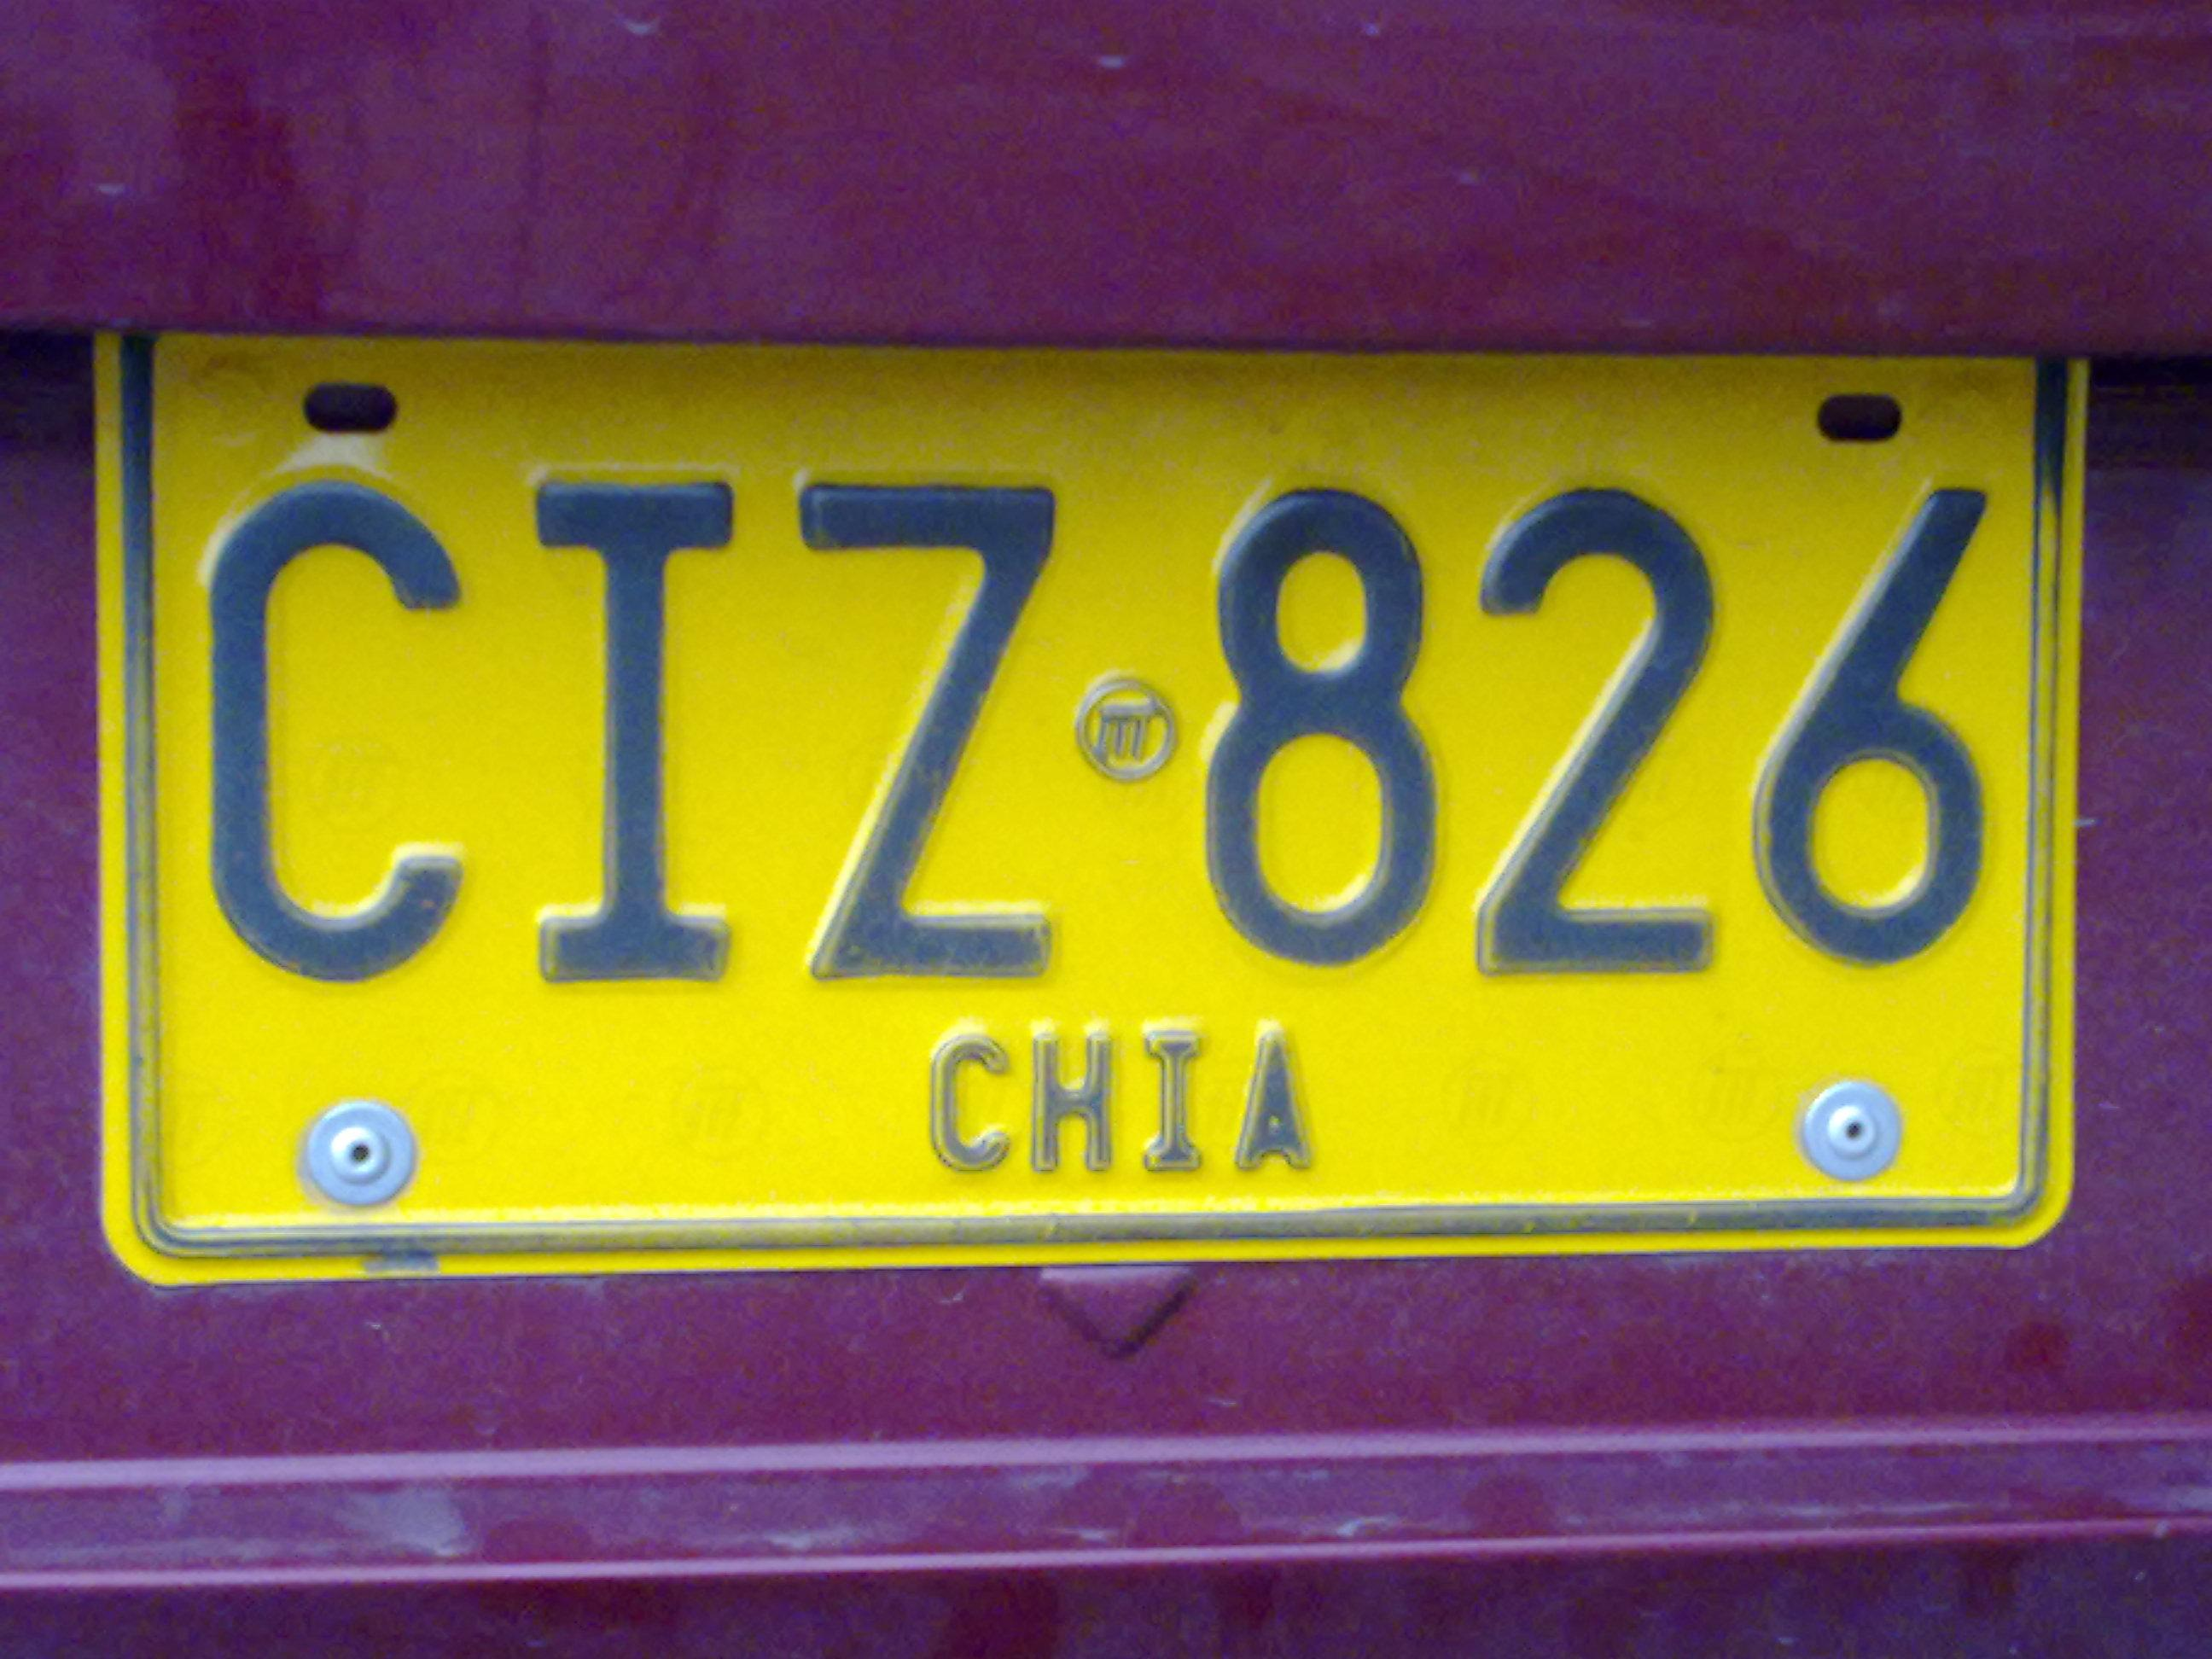placas: (82, 314, 2094, 1292)
